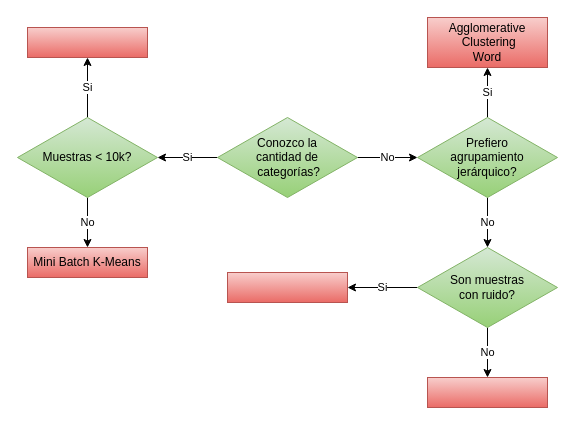
The diagram is 575 pixels wide and 425 high, and some of its shapes have lost their labels. The box of each missing label's shape, as (x1, y1, x2, y2) in pixels:
DBSCAN: (226, 272, 348, 302)
K-Means: (26, 26, 148, 58)
Mean Shift: (426, 376, 548, 408)
